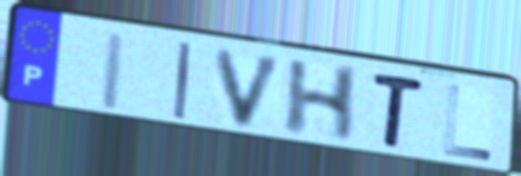H: (281, 58, 364, 145)
I: (96, 28, 131, 114), (171, 39, 195, 123)
L: (441, 81, 495, 164)
T: (369, 69, 428, 152)
V: (211, 46, 289, 132)
